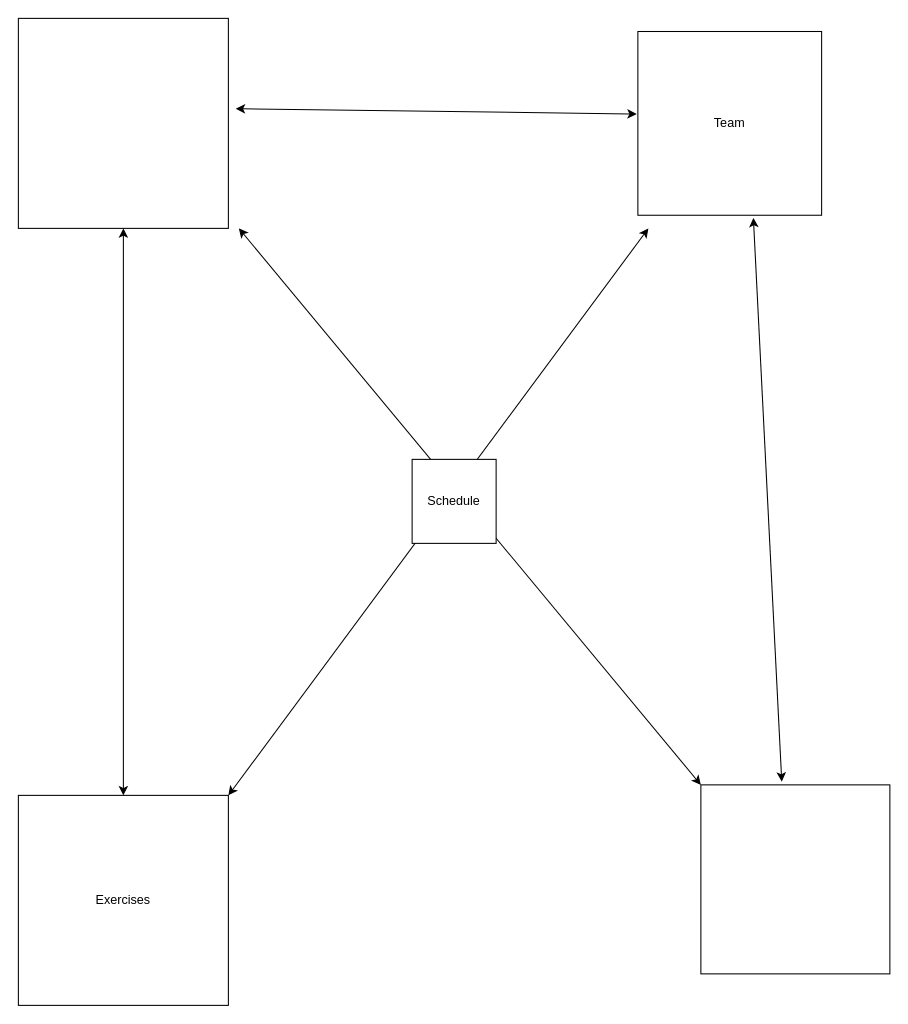
This 908x1024 diagram has some shape labels left out. The shapes that lost their labels are listed below. From the top down, each one's centre as x and y in pixels, then its label:
At (x=122, y=122): "Coach/Staff".
At (x=795, y=879): "Nutrition".
